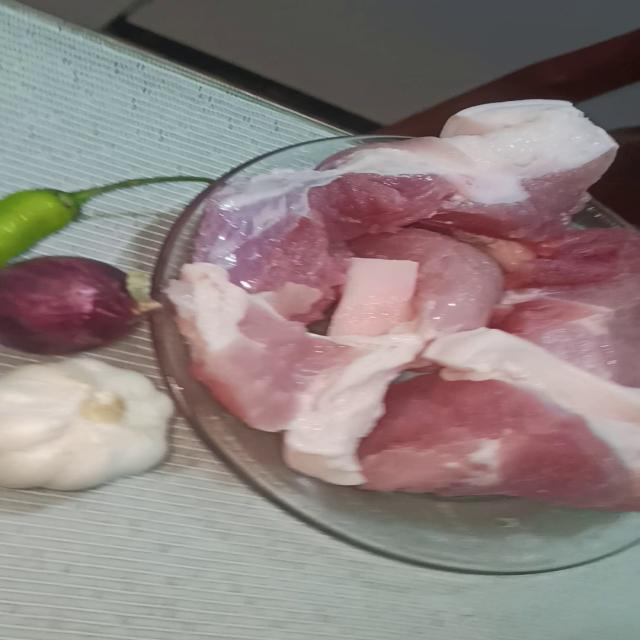chili_pepper: (0, 173, 213, 263)
garlic: (0, 363, 175, 491)
onion: (0, 243, 145, 332)
pork: (290, 334, 640, 489), (205, 160, 457, 305), (350, 104, 628, 224), (441, 220, 640, 360), (169, 273, 367, 412)
